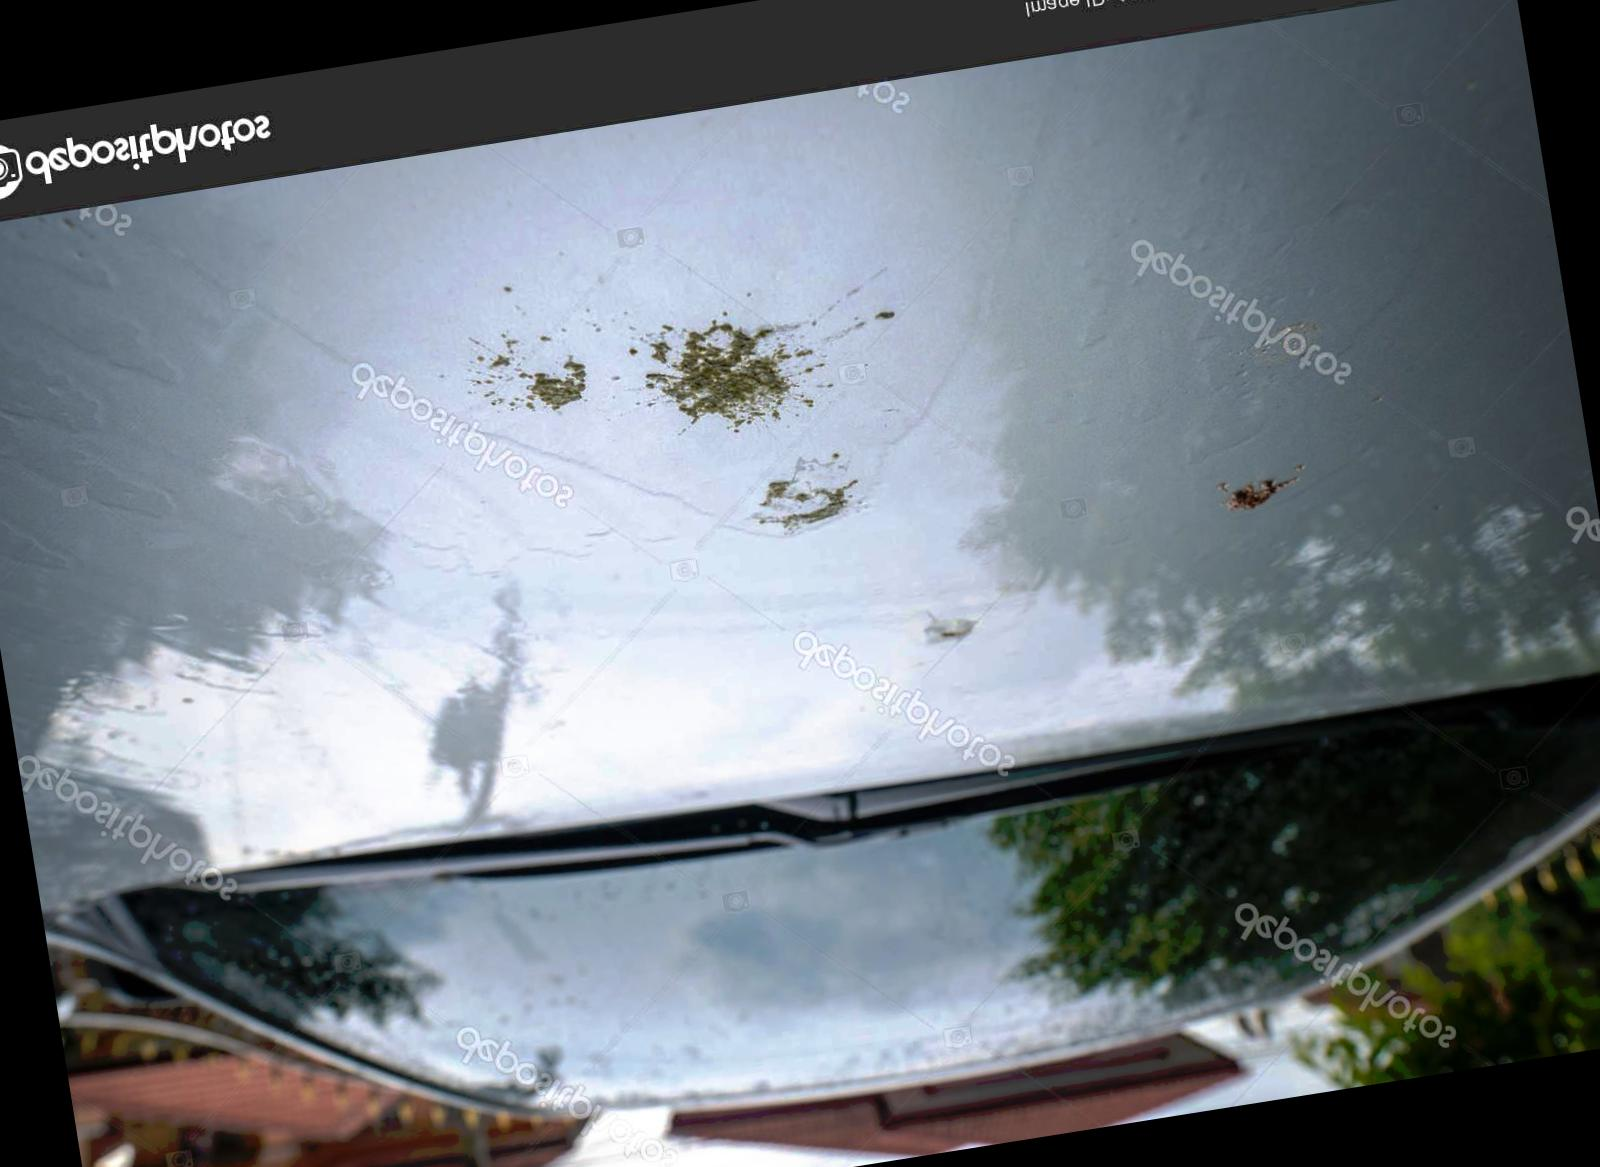Bird Poop: (626, 318, 832, 430), (475, 338, 589, 410), (753, 456, 856, 531), (822, 312, 894, 343), (1224, 480, 1293, 511), (927, 619, 974, 641)
